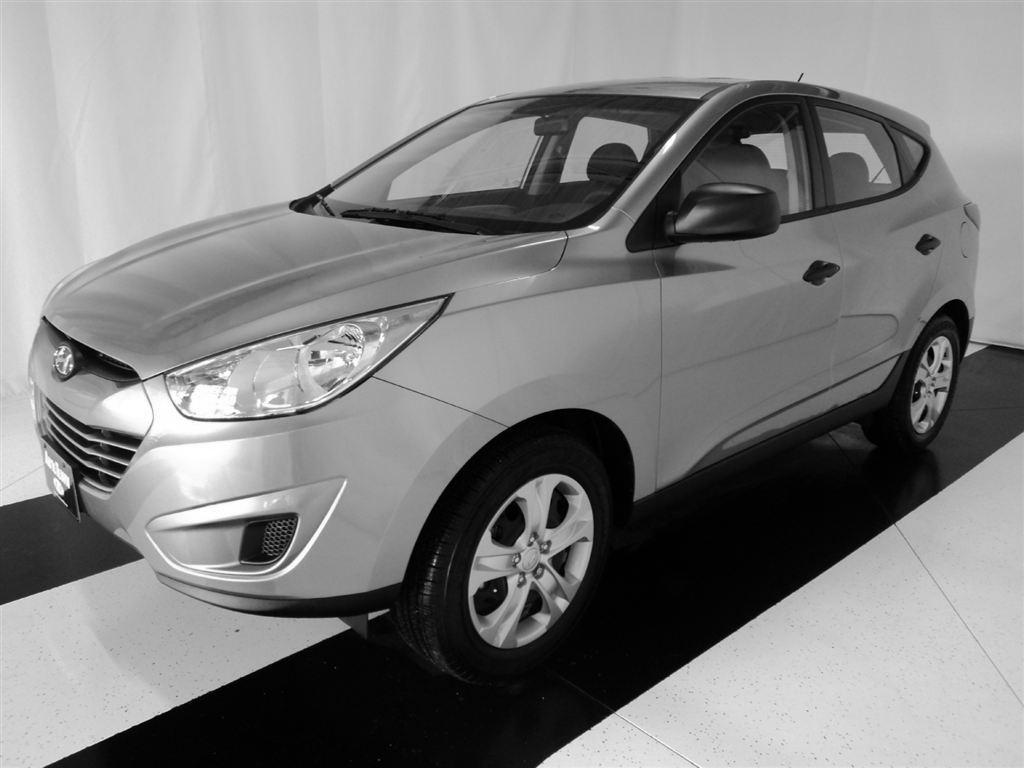car: (29, 72, 982, 674)
